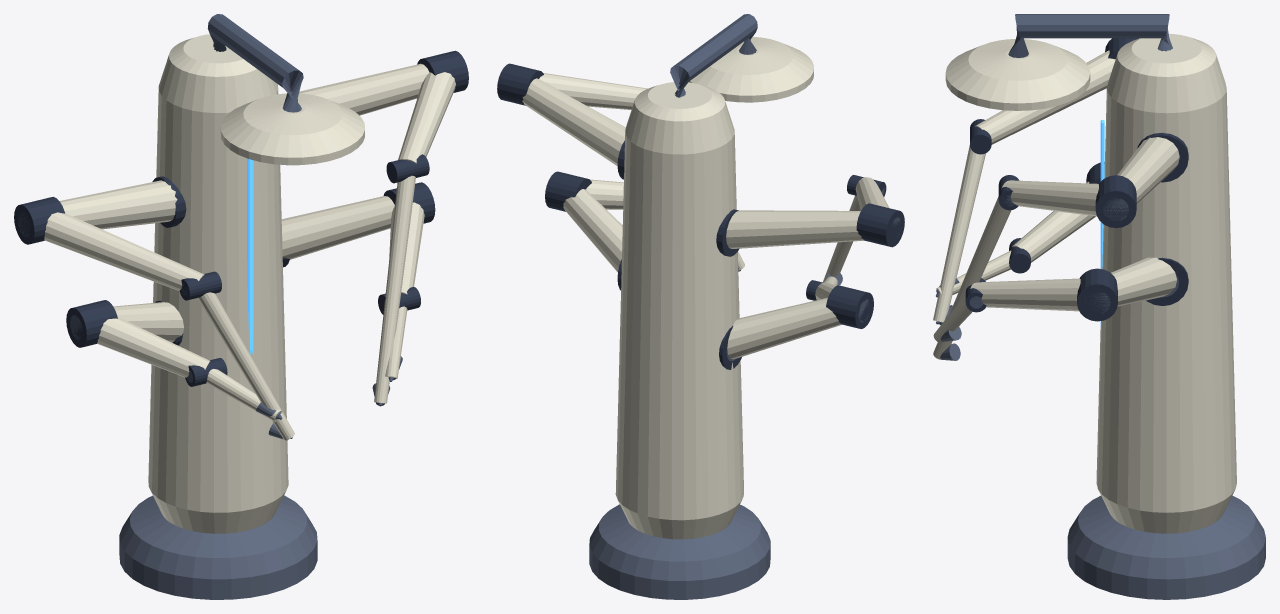
Rendered from bw_surgical_robot.glb.
3 views of the same model, side by side, from view 1: azimuth 30°, elevation 25°; view 2: azimuth 150°, elevation 25°; view 3: azimuth 270°, elevation 25° (orthographic). The views are drawn at different scales.
Visible parts, largest first — view 1: arm_fairing, ballast, pivot, bearing_cap, status_spine; view 2: arm_fairing, ballast, pivot, bearing_cap; view 3: arm_fairing, ballast, pivot, bearing_cap, status_spine.
Boxes of the visible parts, box(x1,y1,x2,y2) form: arm_fairing: box(44, 34, 455, 533); ballast: box(119, 356, 402, 599); pivot: box(14, 50, 468, 386); bearing_cap: box(18, 14, 393, 438); status_spine: box(247, 158, 253, 355); arm_fairing: box(522, 36, 889, 539); ballast: box(589, 267, 842, 599); pivot: box(497, 63, 904, 369); bearing_cap: box(670, 14, 900, 361); arm_fairing: box(933, 34, 1236, 533); ballast: box(936, 278, 1265, 599); pivot: box(965, 38, 1188, 321); bearing_cap: box(936, 14, 1178, 324); status_spine: box(1100, 120, 1104, 325).
Bounding box in the file's own units: 2.4 × 2.9 × 1.61.
